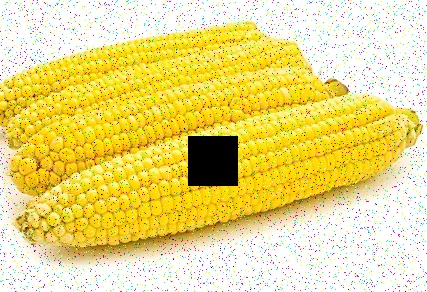corn: (22, 92, 410, 253), (5, 73, 335, 199), (1, 41, 297, 146)
